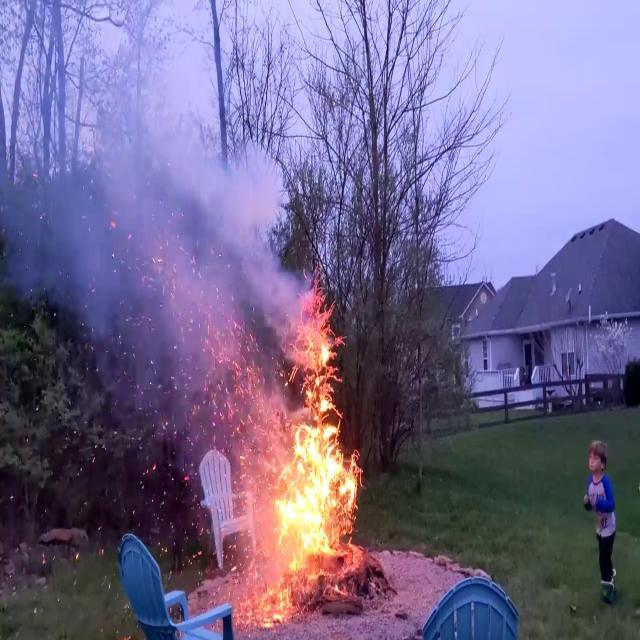Fire: (261, 294, 365, 600)
Smoke: (18, 6, 316, 491)
